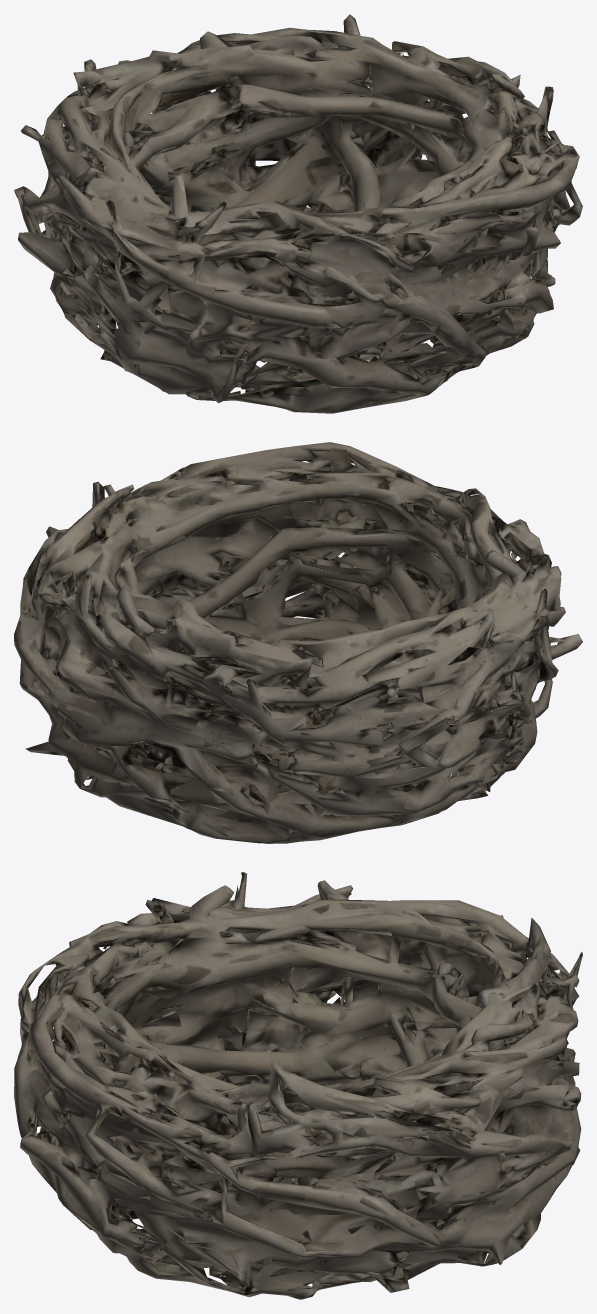
Rendered from kong_nest.glb.
3 views of the same model, one above another, from view 1: azimuth 30°, elevation 25°; view 2: azimuth 150°, elevation 25°; view 3: azimuth 270°, elevation 25° (orthographic). The views are drawn at different scales.
Bounding box in the file's own units: 2 × 0.8896 × 2.
1 material, 1 textured.
